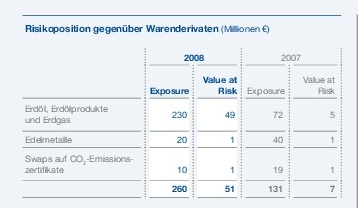table: (0, 0, 358, 208)
